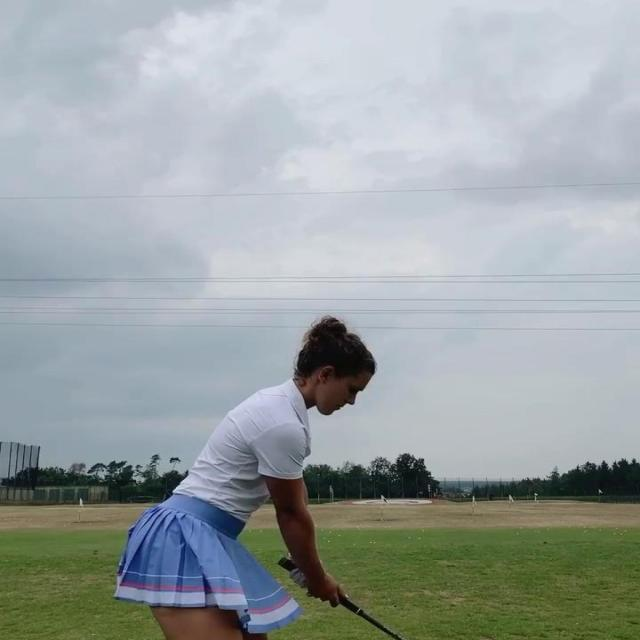golf club-handle: (277, 556, 402, 640)
